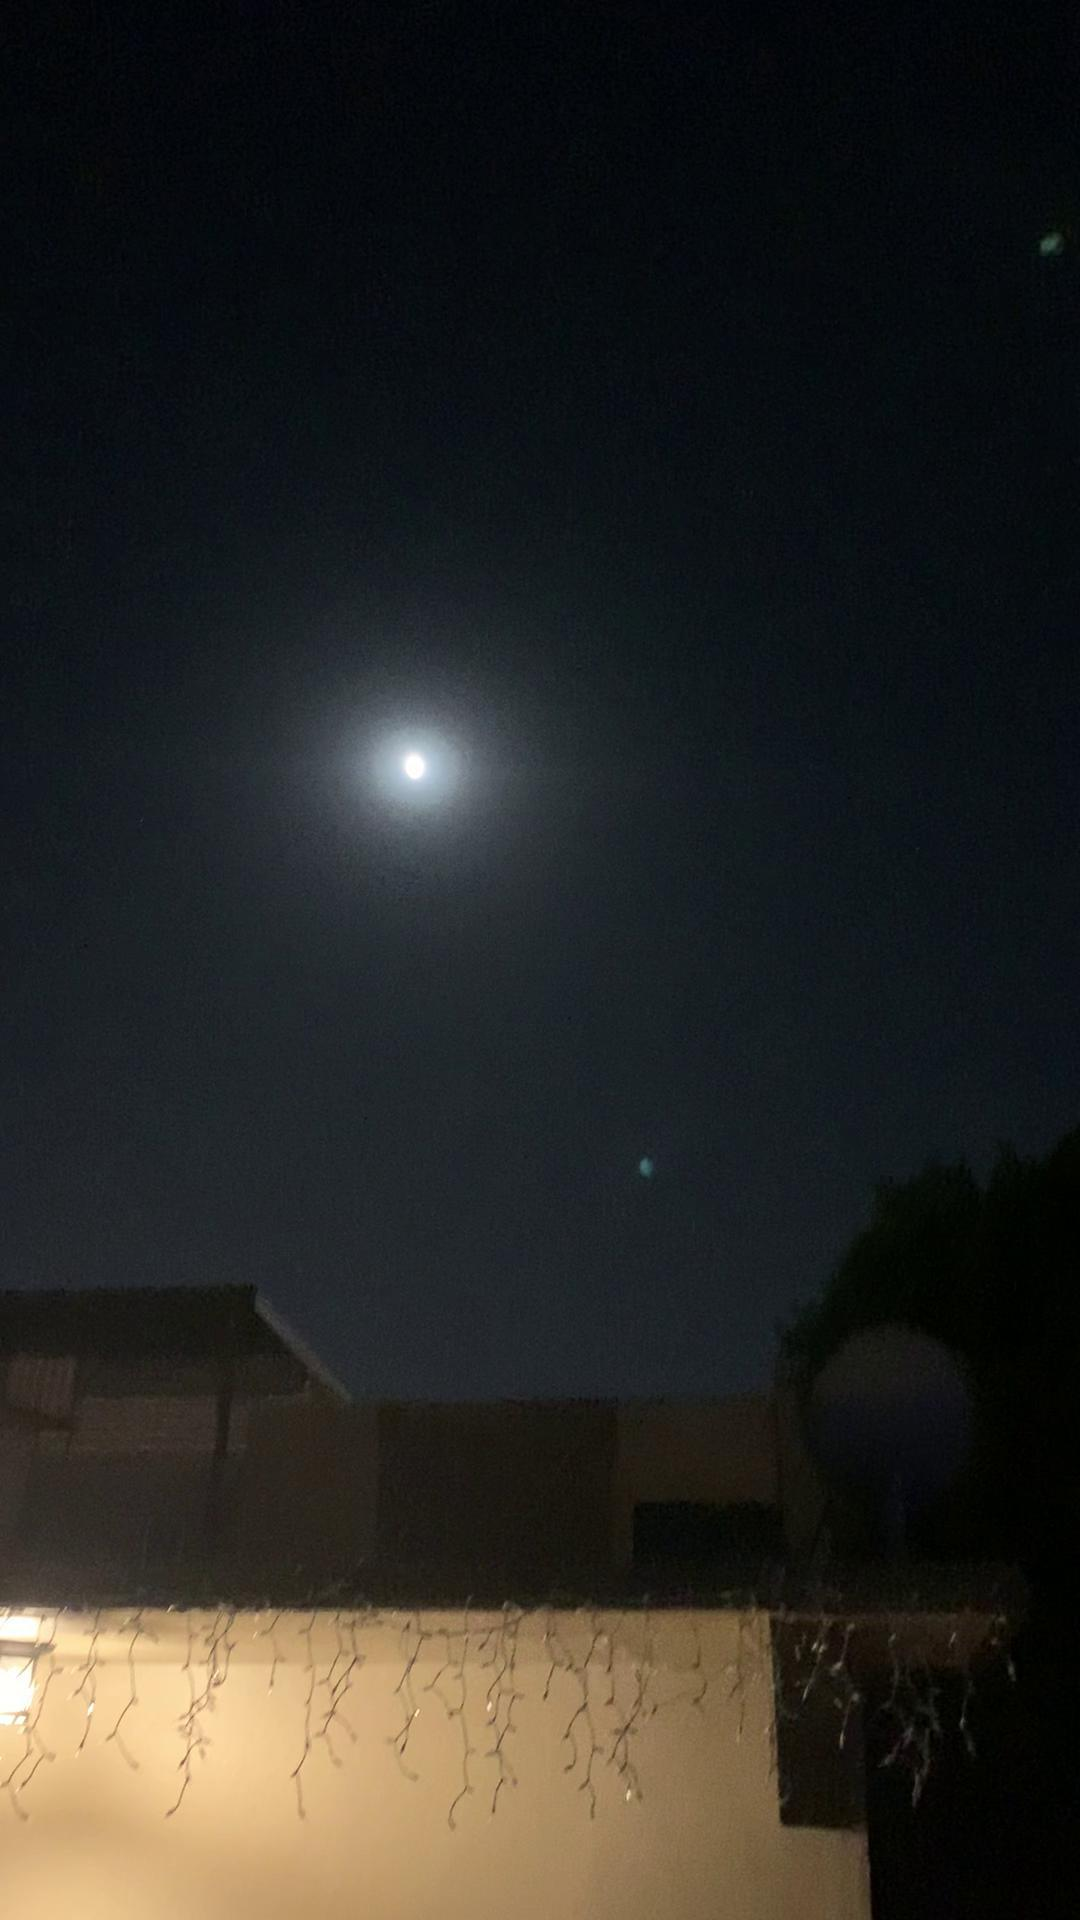moon: (368, 721, 455, 800)
